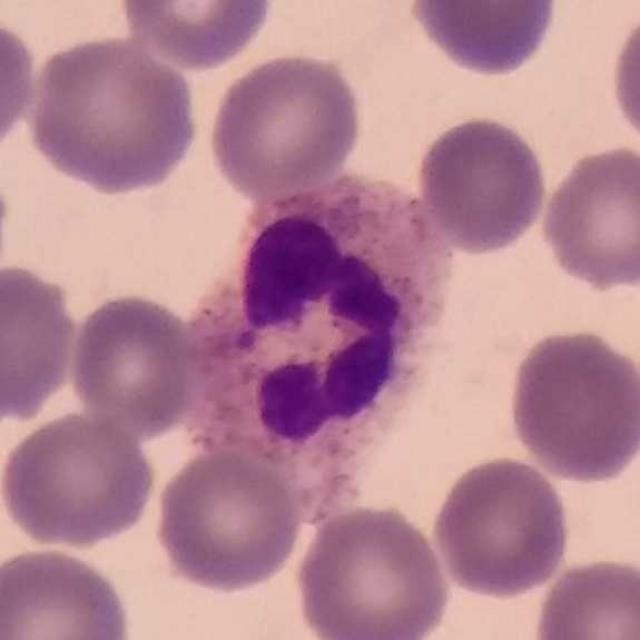Neutrophil: (180, 172, 464, 488)
RBC: (22, 31, 203, 196), (149, 443, 307, 597), (205, 48, 366, 199), (290, 500, 456, 640), (0, 406, 159, 551), (503, 324, 640, 485), (428, 452, 574, 601), (413, 111, 551, 256), (64, 288, 200, 435), (535, 141, 640, 293), (0, 259, 82, 425), (0, 543, 137, 640), (405, 0, 564, 80), (116, 0, 278, 70), (530, 553, 640, 640), (0, 10, 41, 161), (605, 3, 640, 157)
